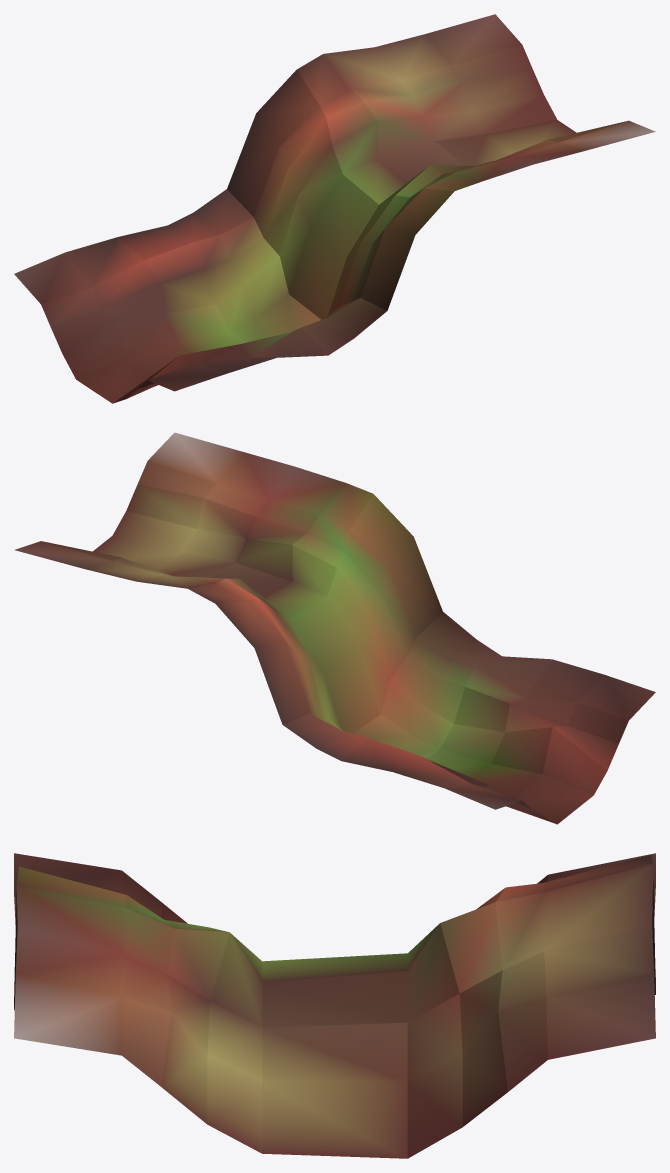
File: TerrainWaterFall.fbx
3 views of the same model, one above another, from view 1: azimuth 30°, elevation 25°; view 2: azimuth 150°, elevation 25°; view 3: azimuth 270°, elevation 25° (orthographic). The views are drawn at different scales.
Visible parts, largest first — view 1: Plane.001; view 2: Plane.001; view 3: Plane.001.
Part boxes in pixels (bbox=[...]): Plane.001: bbox=[14, 14, 655, 403]; Plane.001: bbox=[15, 432, 655, 824]; Plane.001: bbox=[14, 853, 655, 1158].
Size of the model in its own units: 1000 by 408 by 578.
